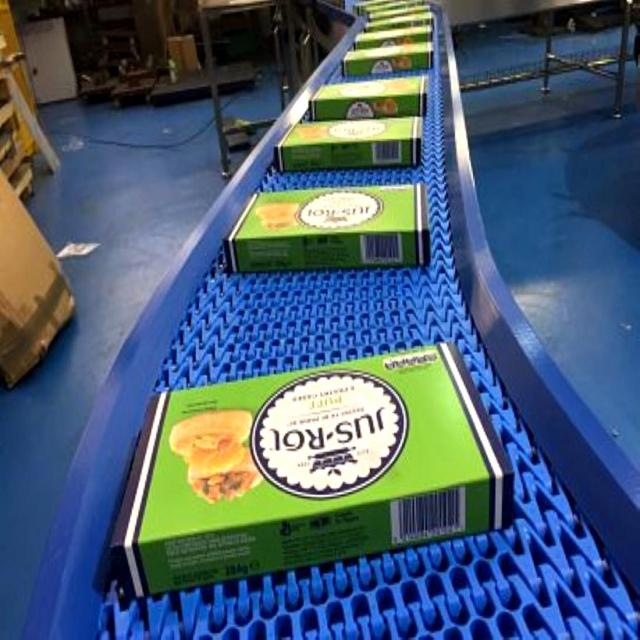food: (93, 338, 516, 602), (222, 179, 431, 274), (275, 115, 424, 172), (309, 74, 427, 121), (341, 40, 433, 76)
